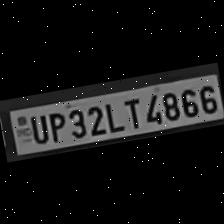2: (83, 100, 107, 136)
3: (62, 104, 88, 139)
4: (138, 90, 164, 126)
6: (195, 82, 220, 115), (176, 84, 200, 118)
8: (156, 87, 181, 121)
L: (100, 97, 122, 132)
P: (44, 107, 68, 143)
T: (118, 94, 142, 130)
U: (25, 112, 48, 145)
